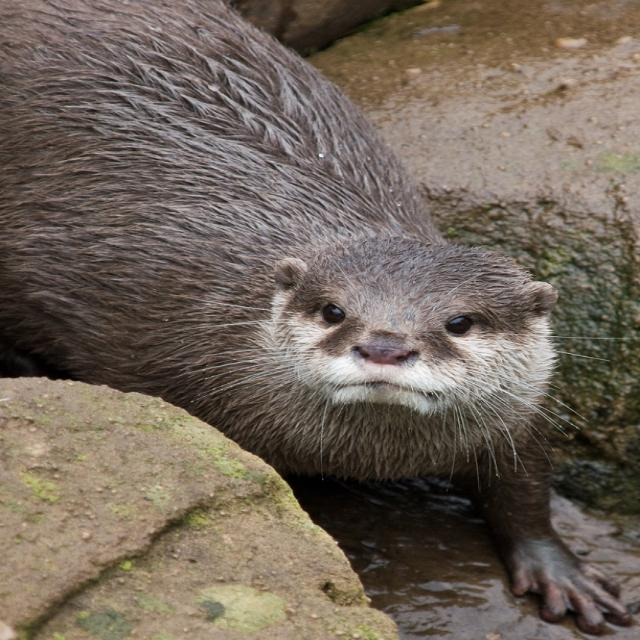otter: (32, 1, 559, 489)
